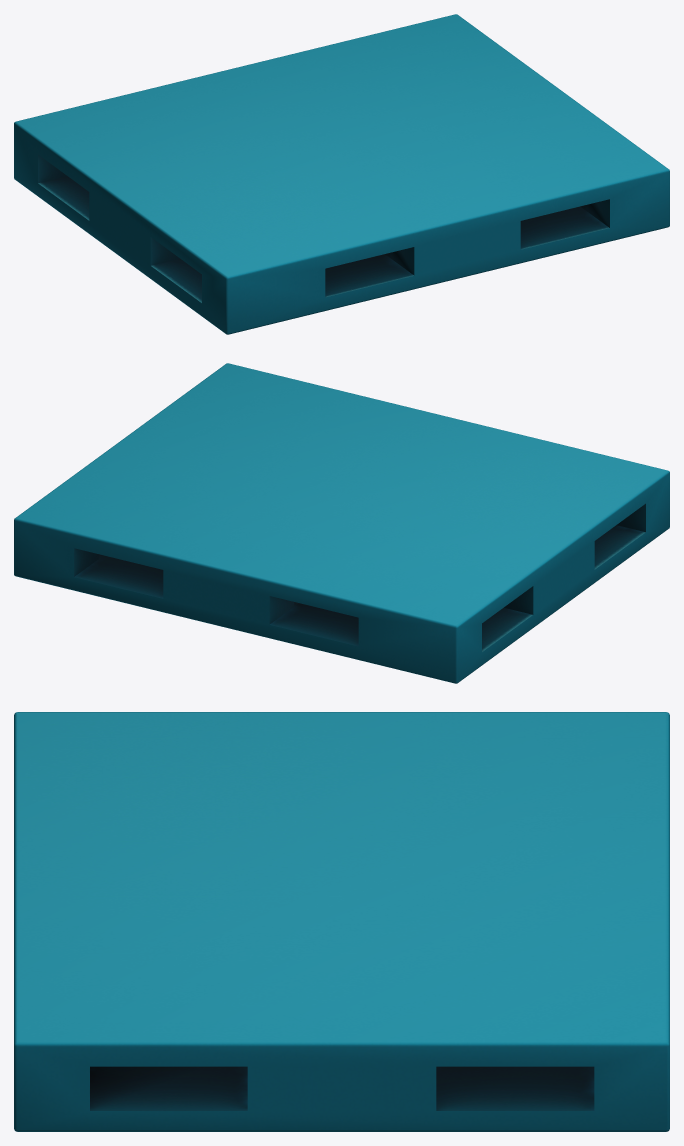
File: board.serva.154.obj
3 views of the same model, one above another, from view 1: azimuth 30°, elevation 25°; view 2: azimuth 150°, elevation 25°; view 3: azimuth 270°, elevation 25° (orthographic). The views are drawn at different scales.
Visible parts, largest first — view 1: chaban15; view 2: chaban15; view 3: chaban15.
Part boxes in pixels (left/top/right/bottom): chaban15: left=14, top=14, right=669, bottom=334; chaban15: left=14, top=363, right=669, bottom=683; chaban15: left=14, top=712, right=669, bottom=1131.
Size of the model in its own units: 135 by 16.88 by 112.
